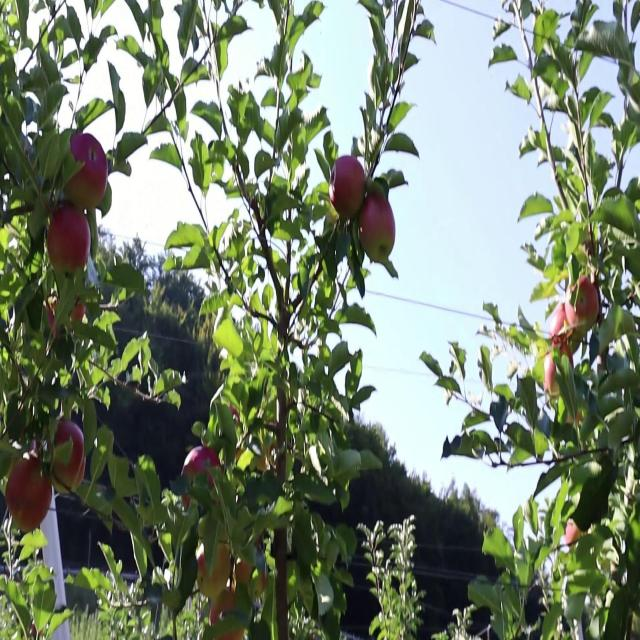apple: (4, 455, 54, 537), (68, 135, 109, 212), (48, 206, 92, 276), (360, 191, 397, 268), (52, 419, 87, 492), (332, 156, 367, 222), (200, 540, 233, 601), (184, 447, 223, 496), (576, 277, 601, 331), (212, 583, 238, 626), (236, 554, 256, 585), (544, 355, 559, 393), (552, 305, 565, 348), (564, 298, 580, 332), (564, 519, 582, 549), (48, 298, 59, 340), (564, 335, 575, 368), (232, 405, 241, 430)
